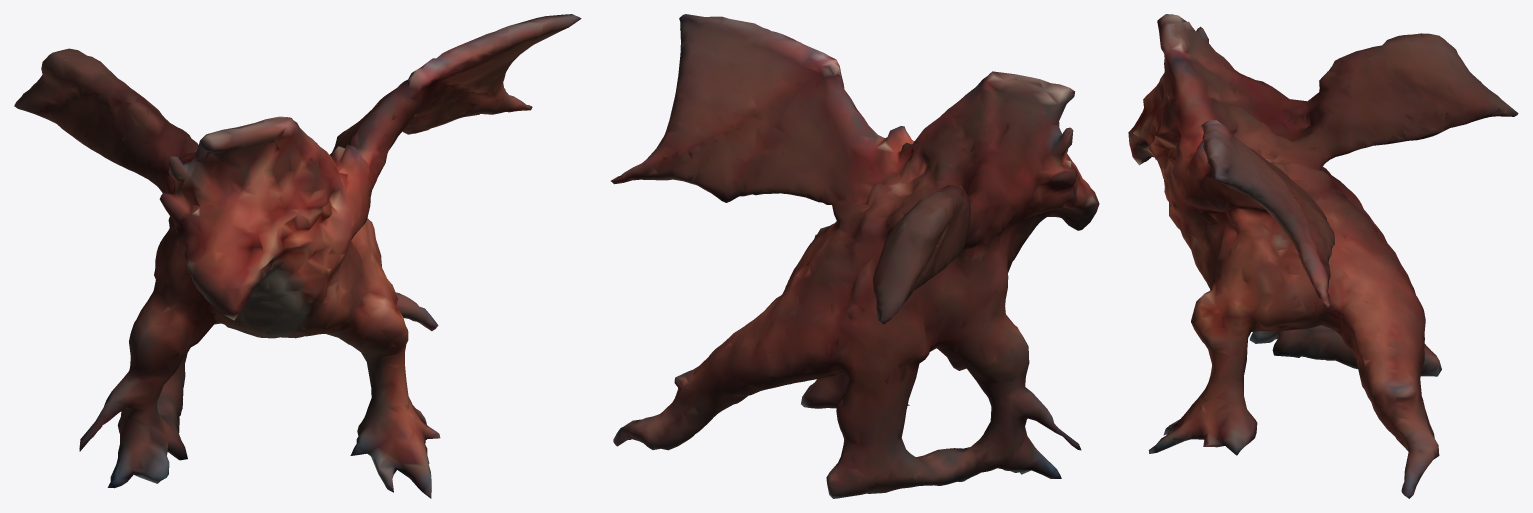
Rendered from dragon.glb.
The picture shows the model from 3 angles, left to right: view 1: azimuth 30°, elevation 25°; view 2: azimuth 150°, elevation 25°; view 3: azimuth 270°, elevation 25°; orthographic projection. The views are drawn at different scales.
Parts seen in each view (by area): view 1: geometry_0; view 2: geometry_0; view 3: geometry_0.
Boxes of the visible parts, x1,y1,x2,y2 form: geometry_0: (14, 14, 581, 498); geometry_0: (611, 14, 1099, 498); geometry_0: (1128, 14, 1518, 498).
Size of the model in its own units: 0.9202 by 0.7502 by 0.7338.
